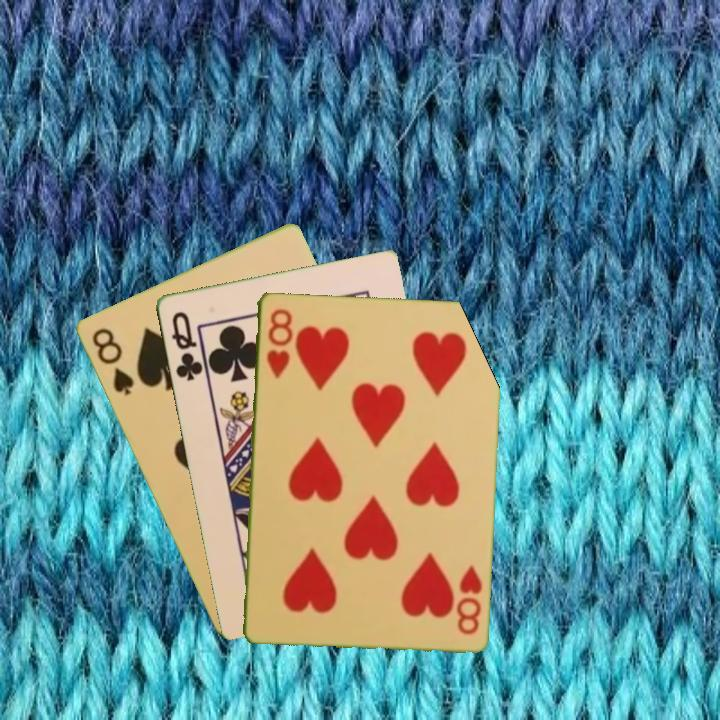8h: (452, 561, 485, 637), (263, 304, 294, 381)
8s: (88, 324, 137, 399)
Qc: (167, 307, 205, 384)
